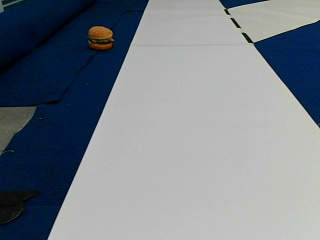burger: (87, 24, 113, 49)
